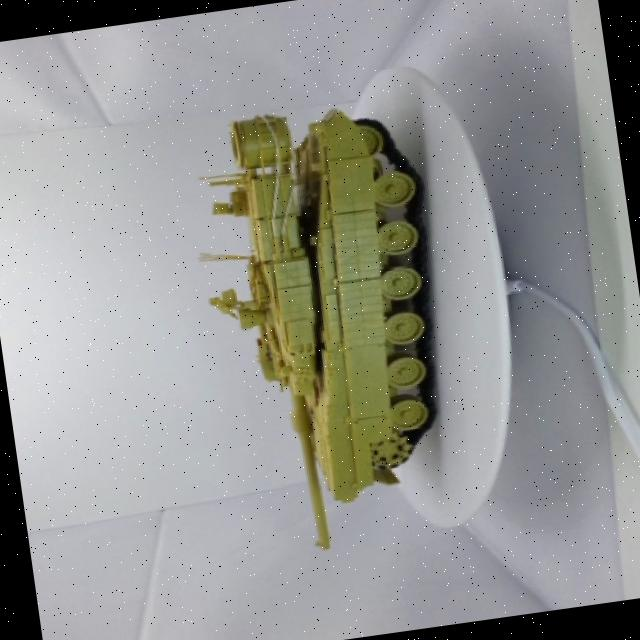korea tank: (162, 80, 486, 584)
